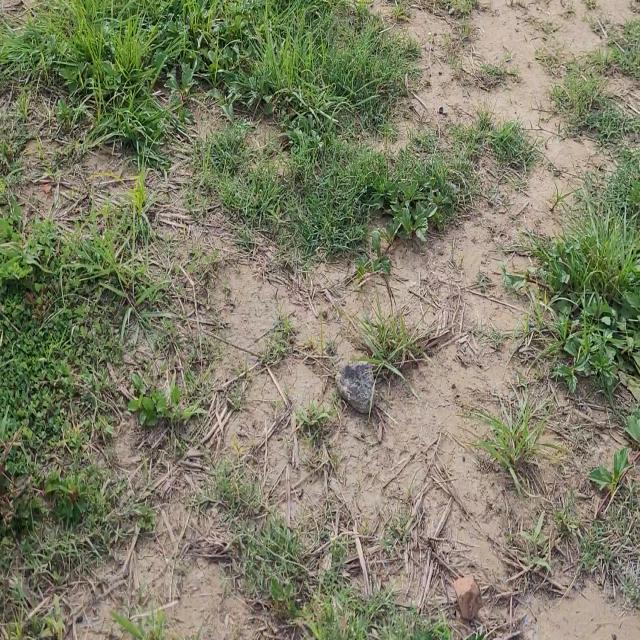grass: (0, 0, 472, 275), (0, 183, 164, 590), (502, 182, 640, 402), (235, 513, 452, 639)
red-sand: (0, 0, 624, 639)
stone: (336, 361, 375, 414)
